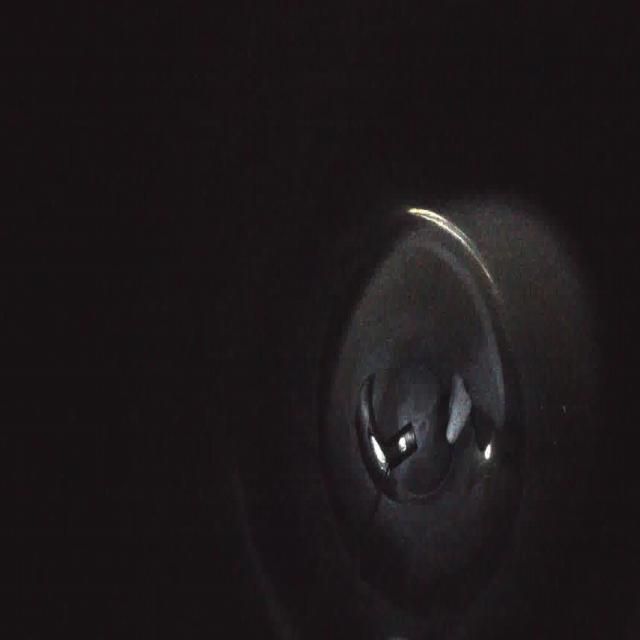impurity: (438, 368, 476, 450)
